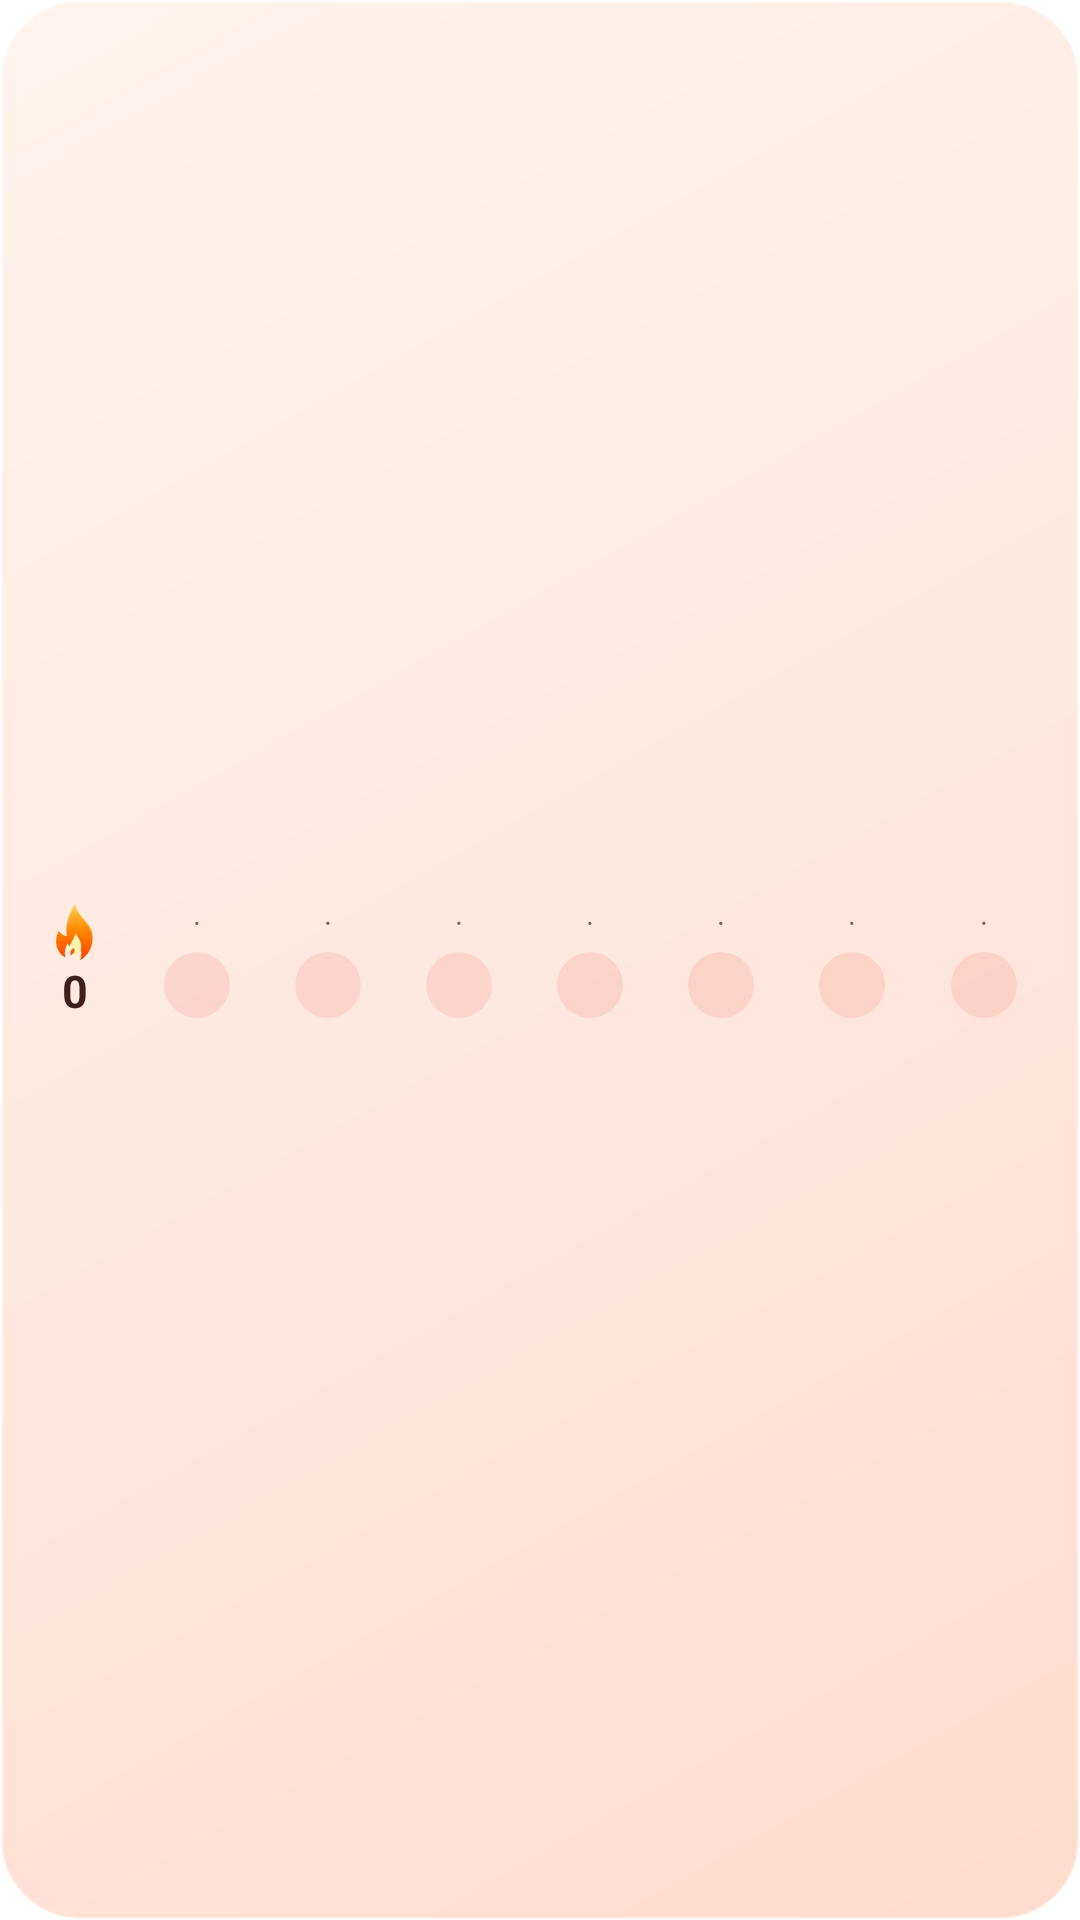

Where icons sit on this 1080px×1920px app screen, as box(x1, y1, x2, y2):
widget flame: box(56, 904, 93, 960)
